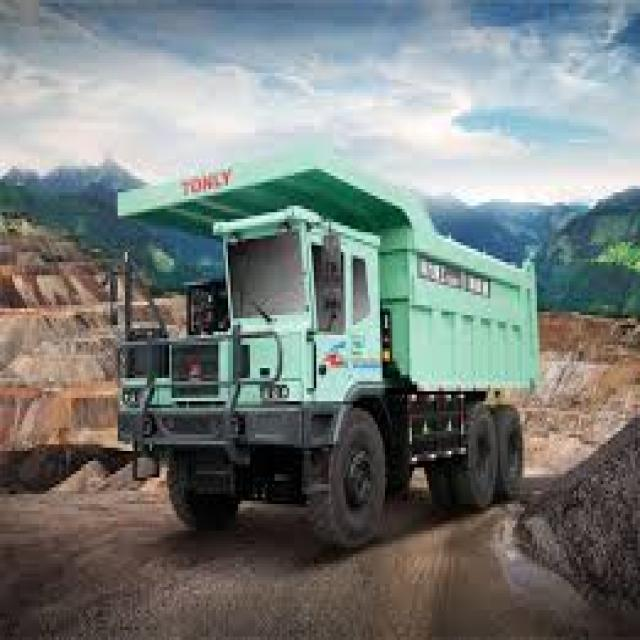dump_truck: (117, 132, 546, 548)
